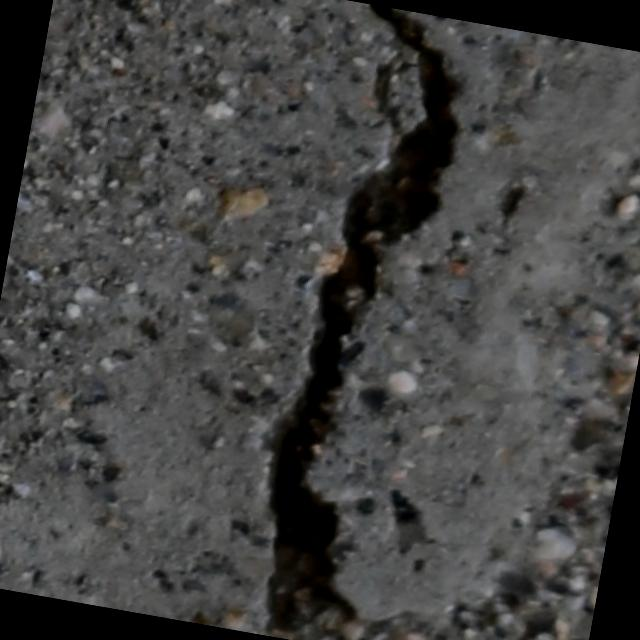crack: (241, 1, 486, 640)
spall: (374, 405, 621, 640)
